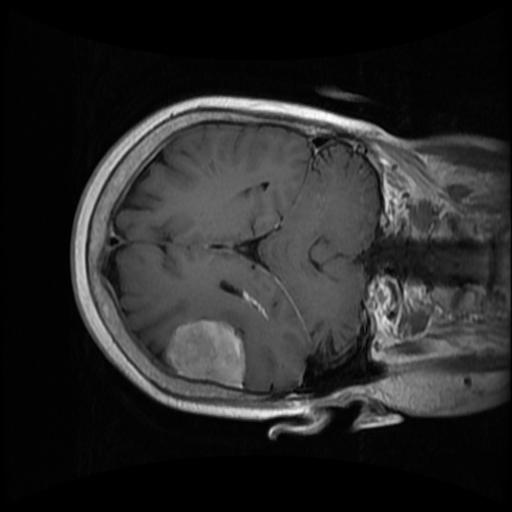meningioma: (164, 318, 245, 388)
